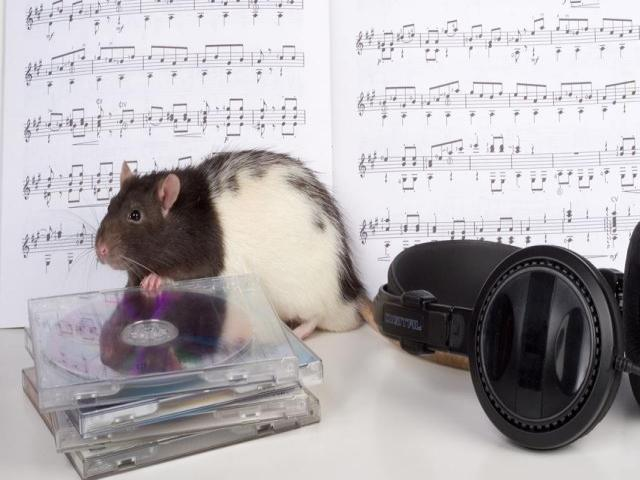Tikus: (98, 151, 360, 338)
